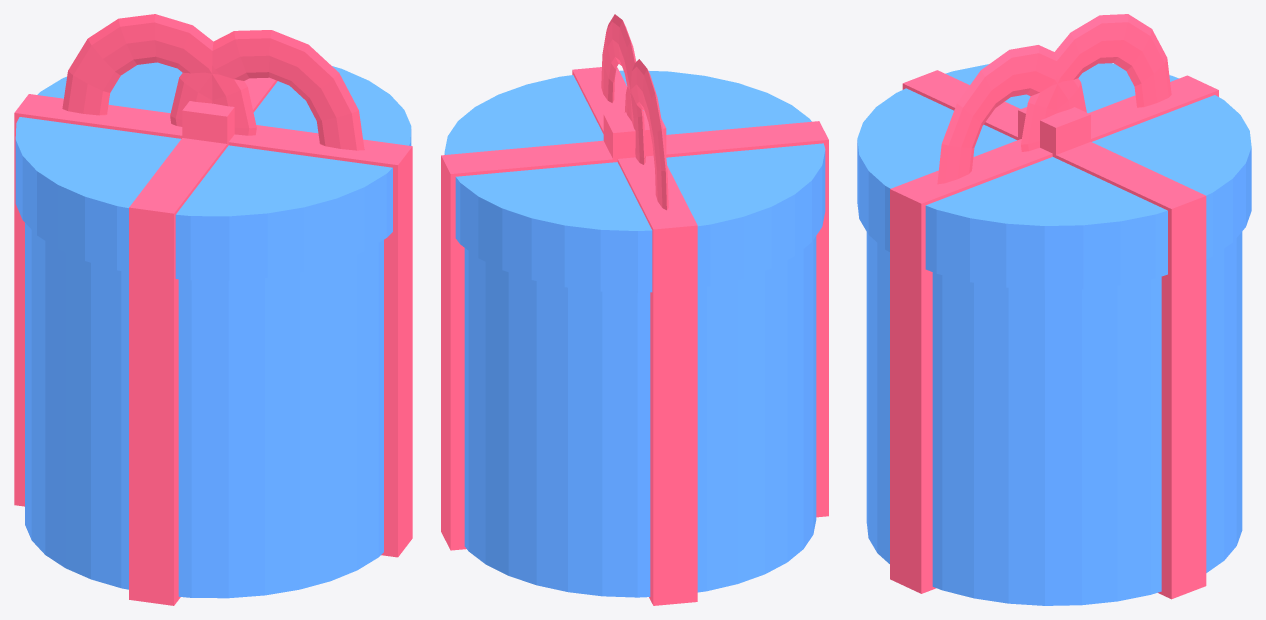
The model's file is Tmpl_Round_Root_237.glb.
The picture shows the model from 3 angles, left to right: view 1: azimuth 30°, elevation 25°; view 2: azimuth 150°, elevation 25°; view 3: azimuth 270°, elevation 25°; orthographic projection. The views are drawn at different scales.
Visible parts, largest first — view 1: Tmpl_Round_Base.235, Tmpl_Round_Lid.235, Tmpl_Round_Ribbon_Y.235, Tmpl_Round_Ribbon_X.235, Tmpl_Round_BowR.235, Tmpl_Round_BowL.235, Tmpl_Round_BowKnot.235; view 2: Tmpl_Round_Base.235, Tmpl_Round_Lid.235, Tmpl_Round_Ribbon_X.235, Tmpl_Round_Ribbon_Y.235, Tmpl_Round_BowL.235, Tmpl_Round_BowR.235, Tmpl_Round_BowKnot.235; view 3: Tmpl_Round_Base.235, Tmpl_Round_Lid.235, Tmpl_Round_Ribbon_Y.235, Tmpl_Round_Ribbon_X.235, Tmpl_Round_BowR.235, Tmpl_Round_BowL.235, Tmpl_Round_BowKnot.235.
Boxes of the visible parts, bbox=[...] form: Tmpl_Round_Base.235: bbox=[25, 223, 383, 598]; Tmpl_Round_Lid.235: bbox=[15, 62, 411, 280]; Tmpl_Round_Ribbon_Y.235: bbox=[129, 77, 277, 605]; Tmpl_Round_Ribbon_X.235: bbox=[14, 94, 412, 557]; Tmpl_Round_BowR.235: bbox=[62, 14, 256, 135]; Tmpl_Round_BowL.235: bbox=[170, 30, 364, 150]; Tmpl_Round_BowKnot.235: bbox=[182, 101, 234, 143]; Tmpl_Round_Base.235: bbox=[464, 236, 816, 597]; Tmpl_Round_Lid.235: bbox=[444, 70, 825, 292]; Tmpl_Round_Ribbon_X.235: bbox=[572, 67, 697, 605]; Tmpl_Round_Ribbon_Y.235: bbox=[441, 121, 828, 550]; Tmpl_Round_BowL.235: bbox=[601, 14, 645, 164]; Tmpl_Round_BowR.235: bbox=[624, 59, 668, 210]; Tmpl_Round_BowKnot.235: bbox=[603, 110, 666, 162]; Tmpl_Round_Base.235: bbox=[866, 232, 1242, 605]; Tmpl_Round_Lid.235: bbox=[857, 63, 1251, 289]; Tmpl_Round_Ribbon_Y.235: bbox=[902, 70, 1206, 599]; Tmpl_Round_Ribbon_X.235: bbox=[890, 75, 1218, 593]; Tmpl_Round_BowR.235: bbox=[1021, 14, 1171, 151]; Tmpl_Round_BowL.235: bbox=[937, 45, 1086, 184]; Tmpl_Round_BowKnot.235: bbox=[1018, 107, 1090, 157].
Bounding box in the file's own units: 0.697 × 0.97 × 0.697.
